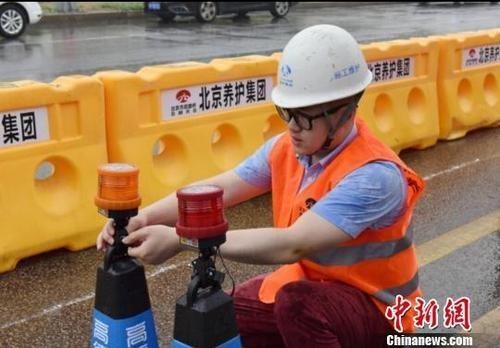cone_barrel: (114, 61, 275, 221), (3, 86, 94, 278), (358, 42, 434, 155), (439, 28, 498, 135)
